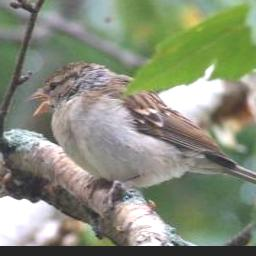Sparrow: (22, 59, 256, 212)
